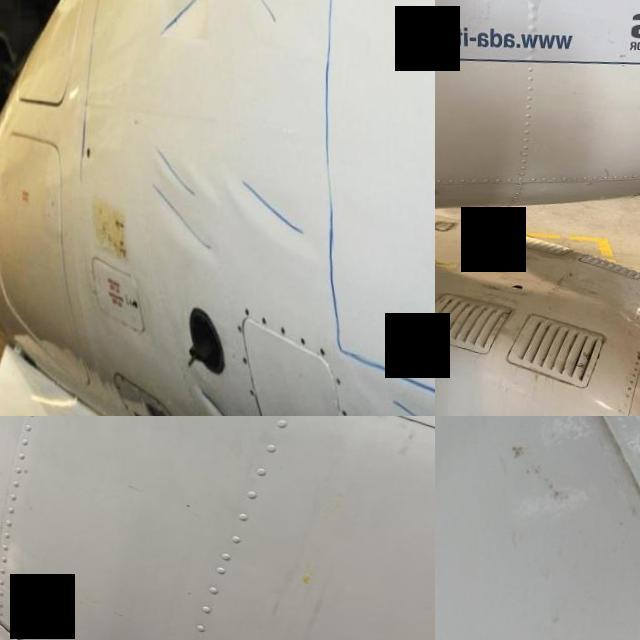Dent: (241, 165, 313, 238), (148, 175, 213, 252), (387, 383, 435, 416), (202, 382, 243, 416), (161, 0, 201, 34)
Missing_Fastener: (9, 636, 26, 640)
